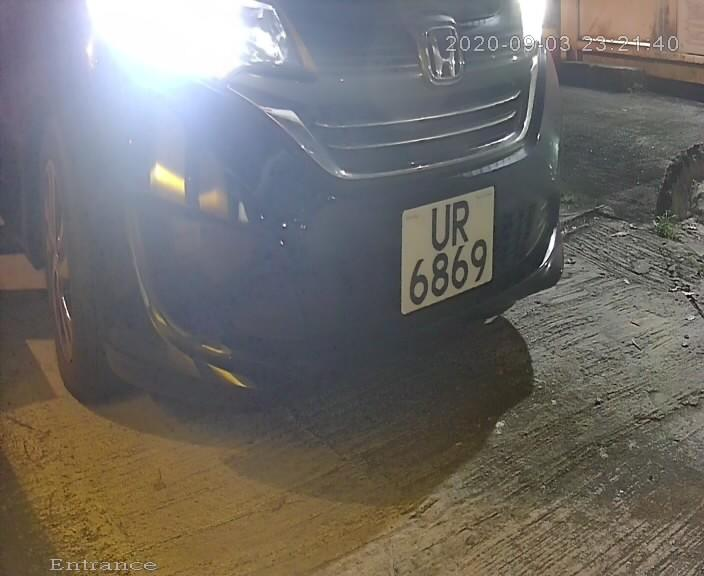License Plate: (393, 173, 497, 330)
